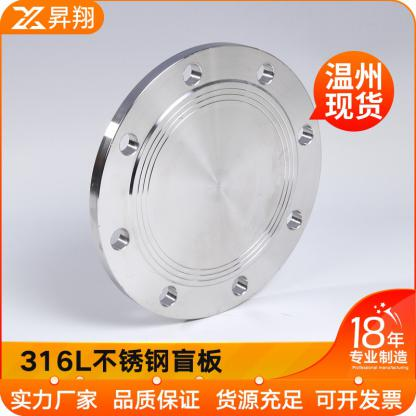FOD: (84, 36, 329, 325)
